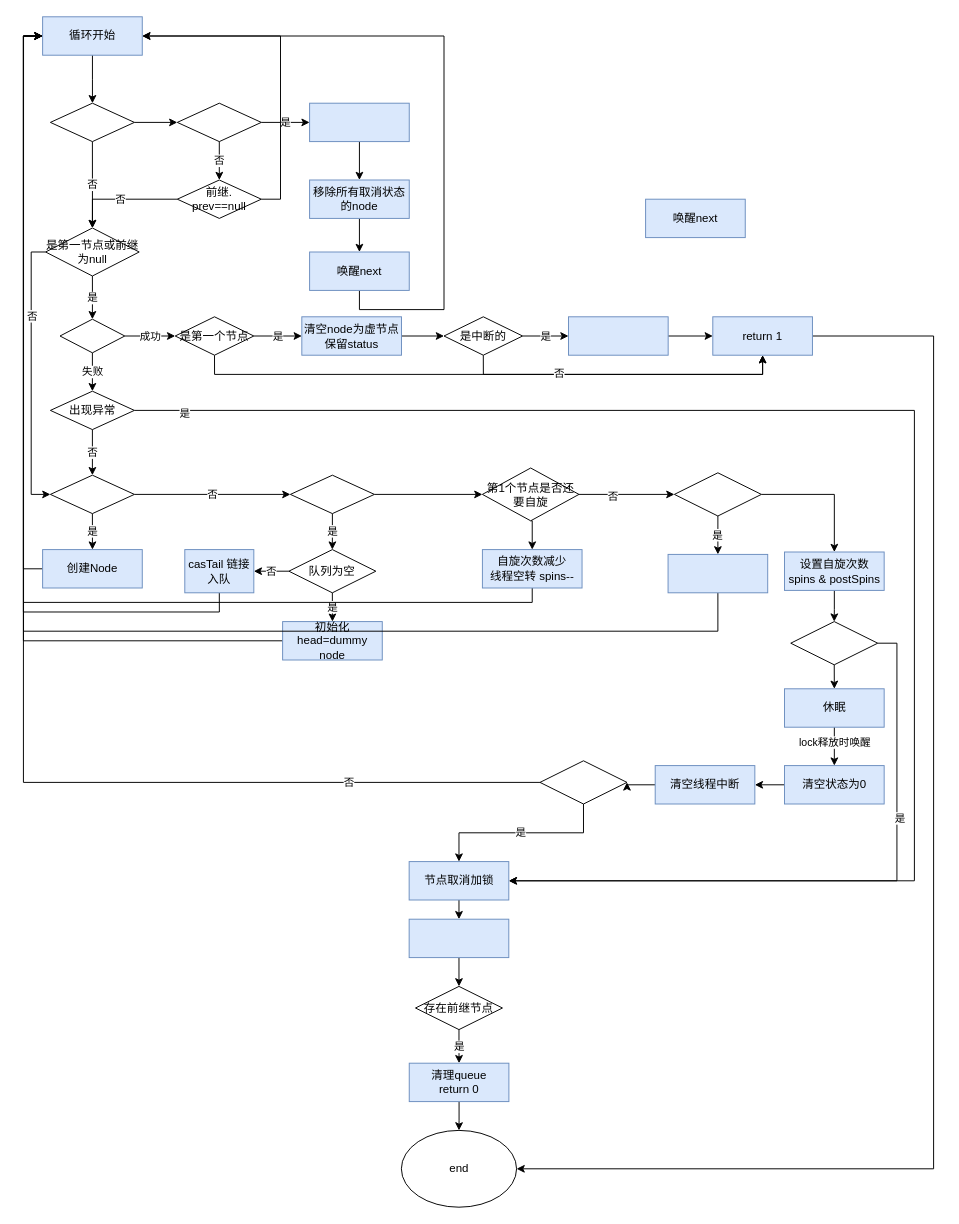
The diagram is 959 pixels wide and 1224 high, and some of its shapes have lost their labels. The centre of each missing label's shape, as x and y in pixels:
"不存在前继节点" belongs at point 331,494.
"不是第1个节点" belongs at point 91,122.
"前继节点被取消 状态<0" belongs at point 218,122.
"尝试加锁" belongs at point 92,335.
"恢复中断" belongs at point 618,335.
"是第1次请求" belongs at point 91,494.
"清理queue" belongs at point 359,122.
"清空node为虚节点status=cancelled" belongs at point 458,938.
"线程被 中断且锁可中断" belongs at point 583,782.
"节点状态为0？" belongs at point 717,494.
"设置状态为 WAITING:1" belongs at point 717,573.
"超时？" belongs at point 834,643.
